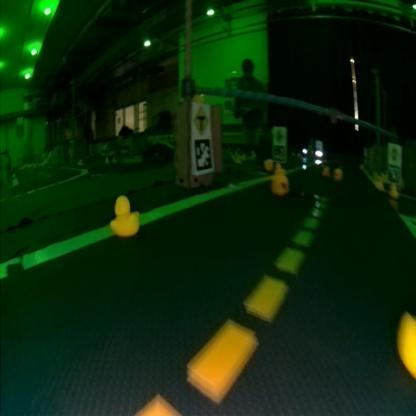Duckie: (112, 195, 140, 235), (272, 174, 290, 194), (390, 184, 400, 196), (336, 168, 342, 178), (324, 166, 330, 176), (266, 159, 272, 169)
Intersection sign: (193, 103, 211, 137)
QR code: (194, 137, 214, 171), (388, 165, 400, 180), (274, 146, 286, 160)
Signal sign: (391, 146, 401, 162)
